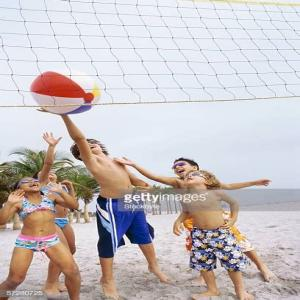Volley: (30, 69, 102, 115)
